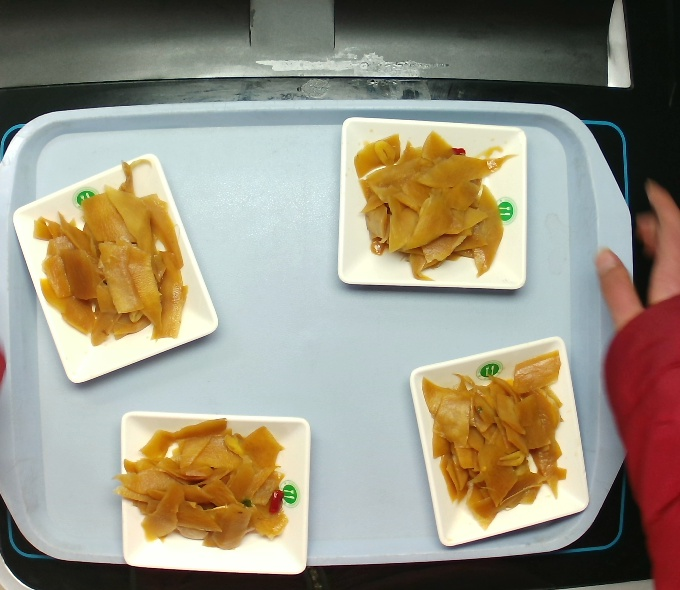wcq-JiangLuoBo: (420, 351, 569, 538), (114, 410, 296, 562), (32, 181, 189, 344), (353, 127, 515, 278)
